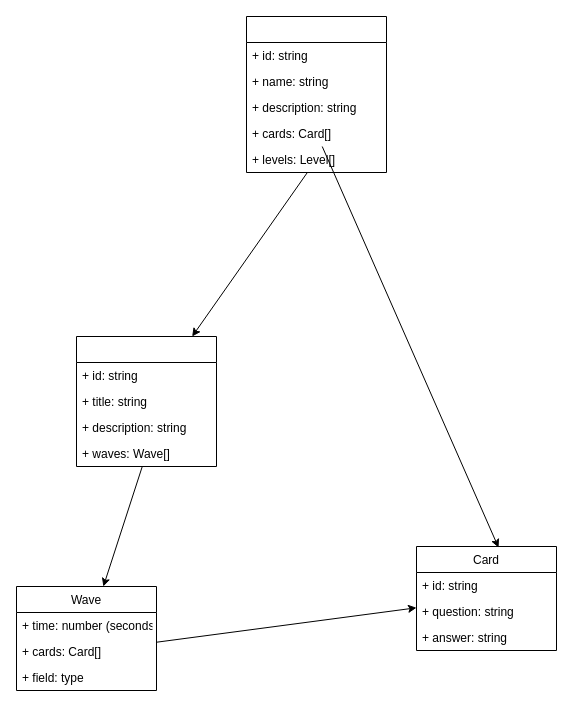
The diagram is 573 pixels wide and 707 high, and some of its shapes have lost their labels. The box of each missing label's shape, as (x1, y1, x2, y2) in pixels:
Level: (76, 336, 216, 466)
World: (246, 16, 386, 172)
